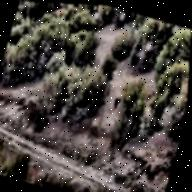boar: (111, 95, 122, 111)
